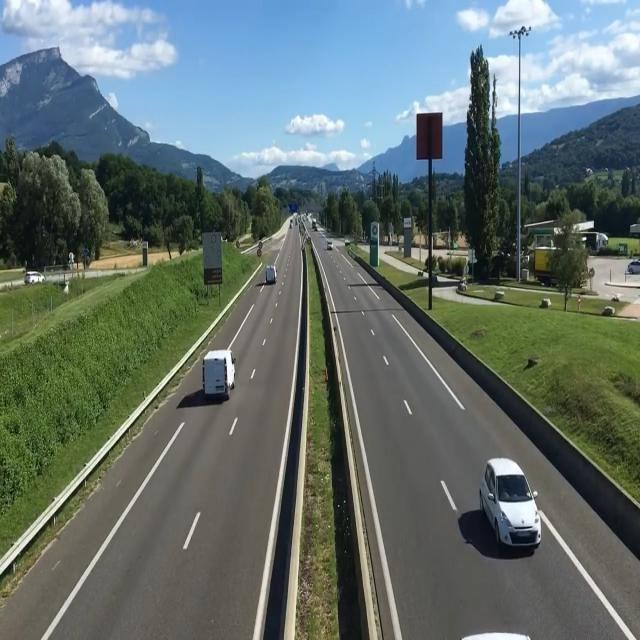Truck: (479, 457, 543, 553)
Van: (202, 347, 238, 400), (264, 264, 278, 284)
